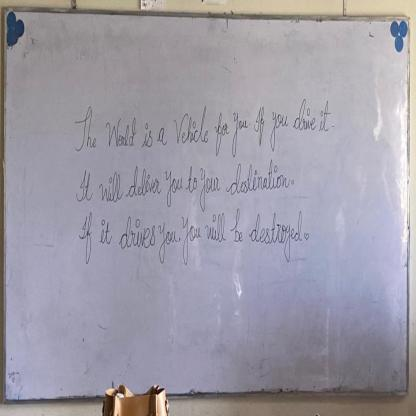Handwritten text: (70, 87, 332, 159), (73, 207, 305, 275), (77, 159, 291, 213), (70, 206, 71, 207)
Whiteboard: (2, 3, 411, 411)
